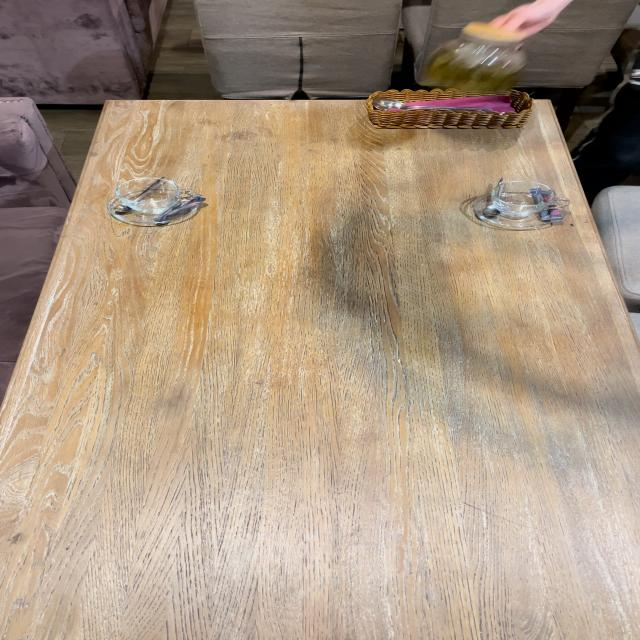tea: (412, 21, 536, 97)
